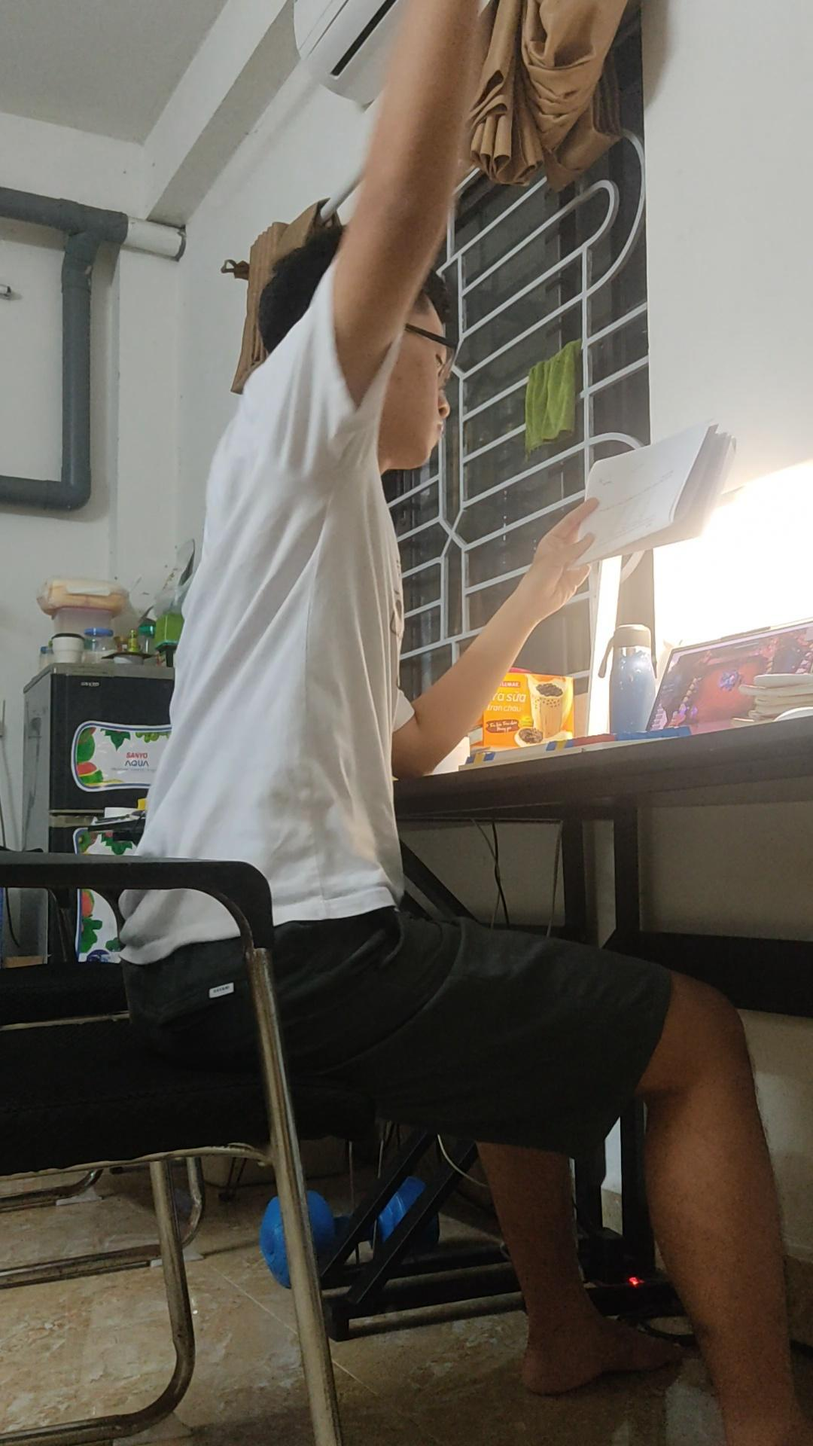GoodPosture: (139, 0, 812, 1445)
